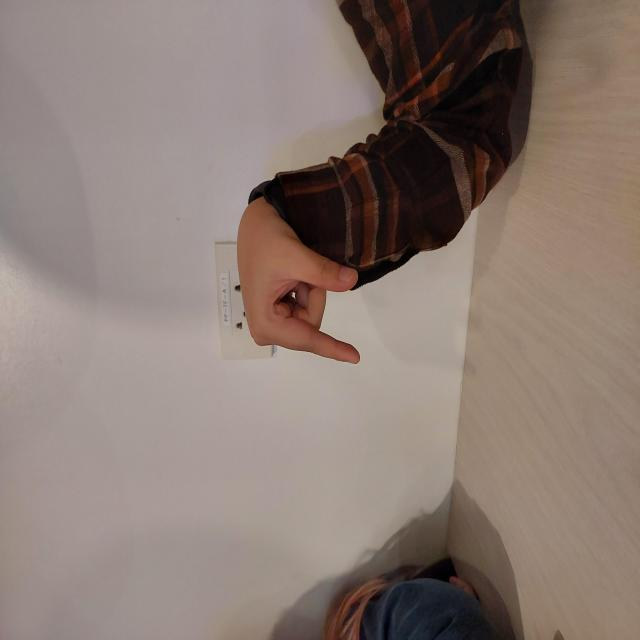Q: (274, 233, 447, 364)
